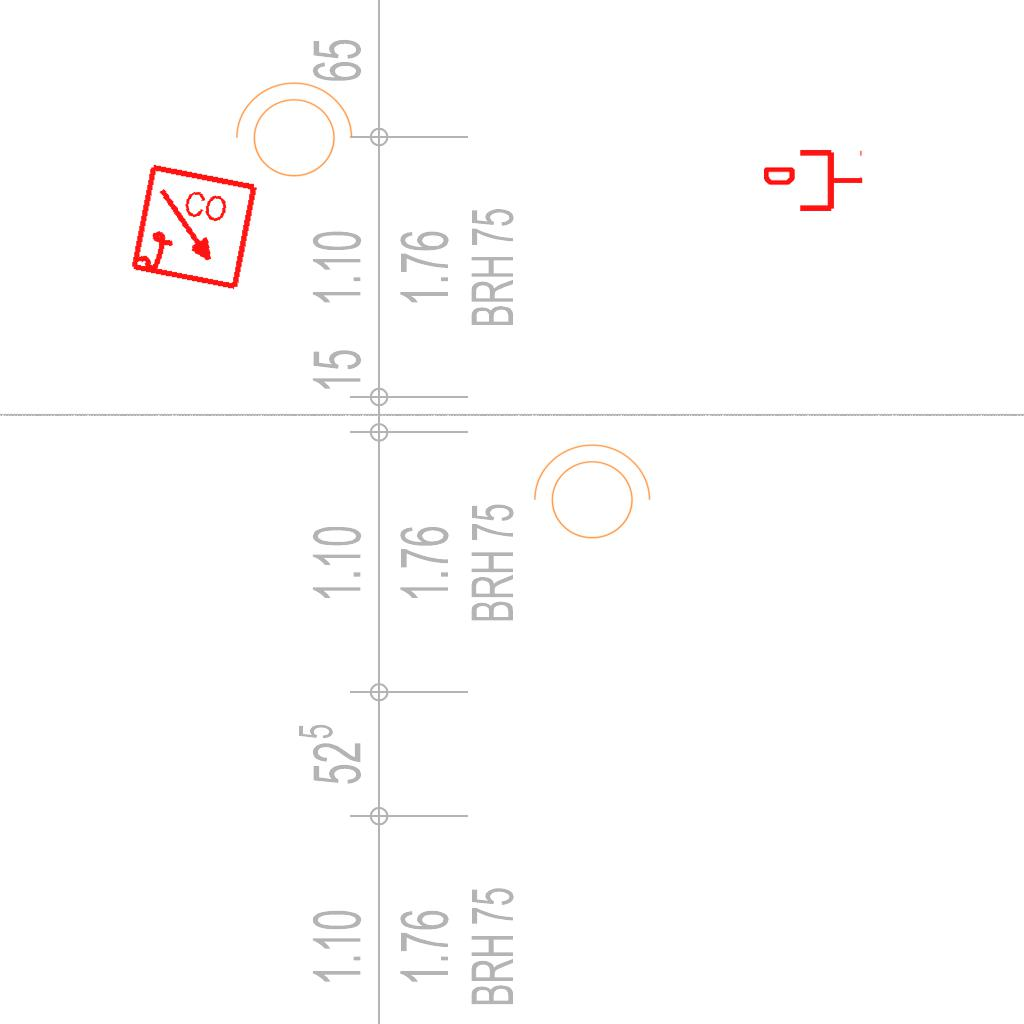Datenanschluss_einfach: (764, 146, 864, 215)
ROA_Rauchmelder_optisch_mit_Signalgeber_(Sockelsirene): (128, 162, 261, 295)
Scheinwerfer_fuer_Alarmbeleuchtung: (523, 439, 655, 551), (225, 77, 357, 189)
